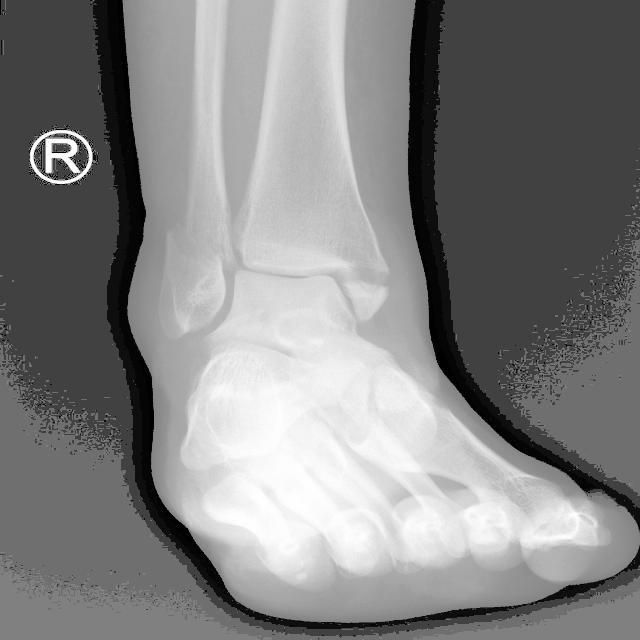Oblique fracture: (164, 216, 232, 281), (344, 254, 392, 311)
